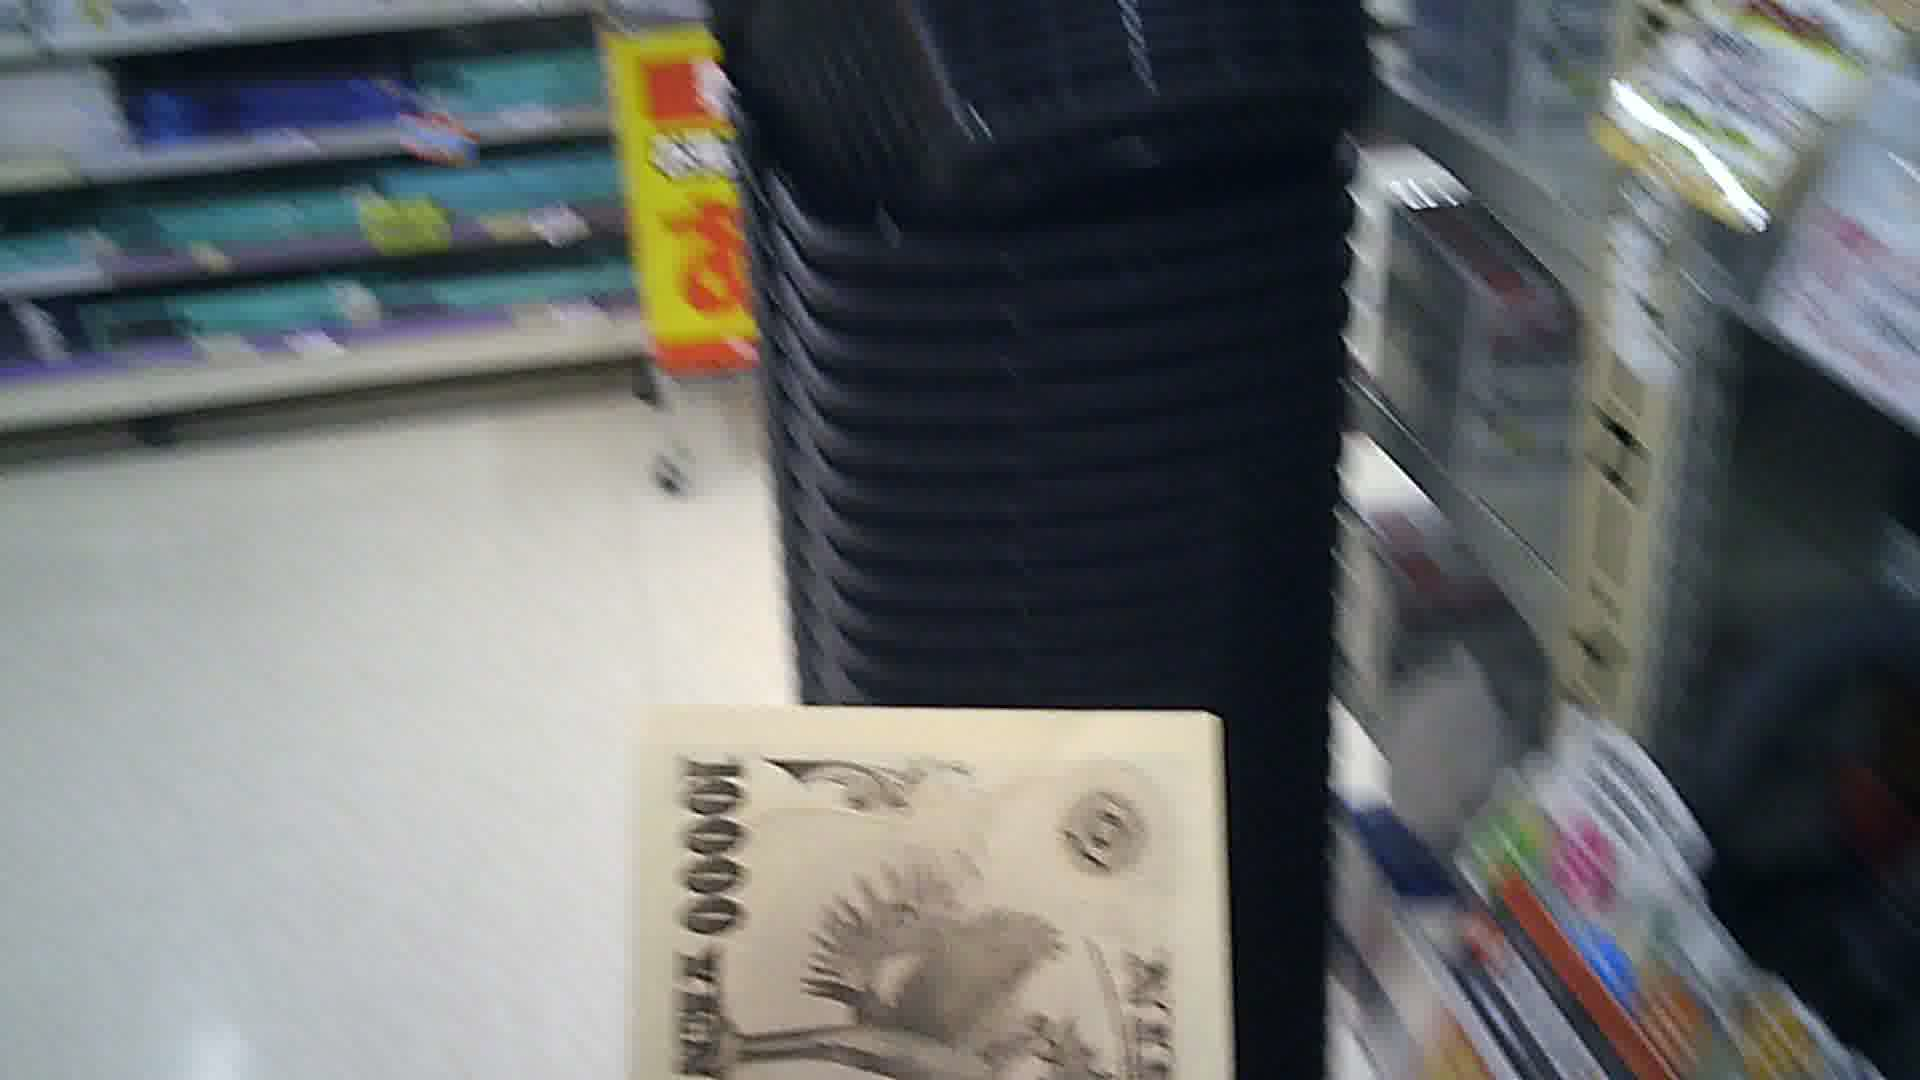10,000 Yen: (607, 698, 1226, 1079)
